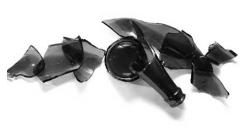glass: (7, 36, 106, 87), (130, 20, 186, 110), (192, 39, 238, 99), (105, 36, 149, 87)
